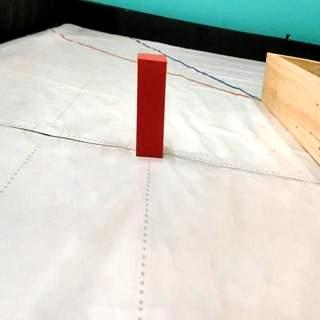redbox: (134, 52, 168, 158)
